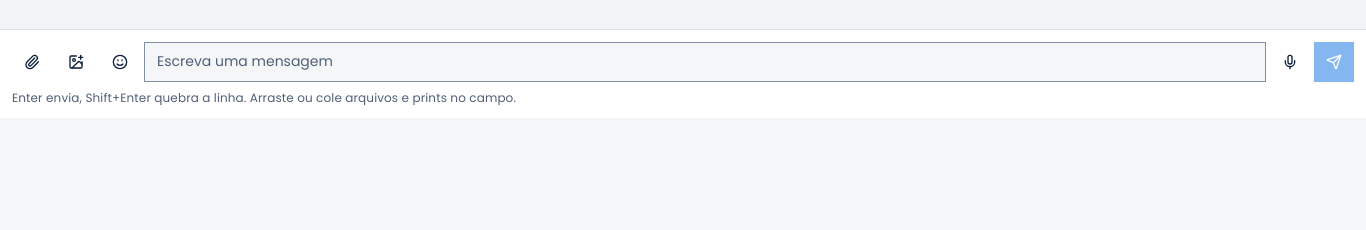
Test: ChatComposer › escrever e enviar mostra a mensagem nova na lista, e limpa o campo
Type "Olá, tudo bem?" into the text box labelled "mensagem" at x=705, y=62, box left=144, top=42, right=1266, bottom=82
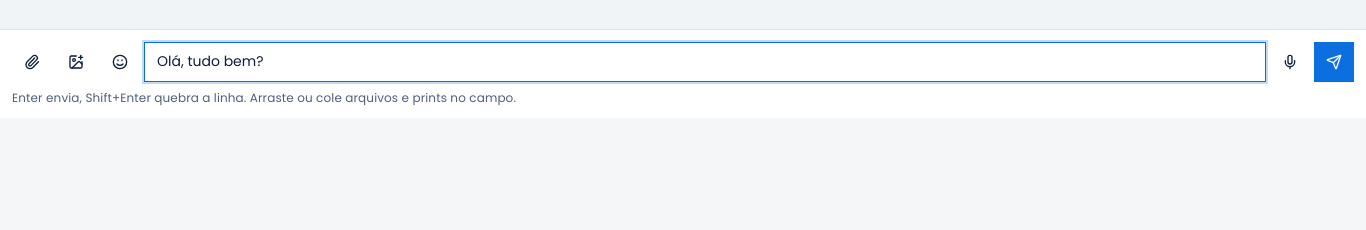
Result: the button named "Enviar" is enabled
Click the button named "Enviar" at x=1334, y=62, box left=1314, top=42, right=1354, bottom=82
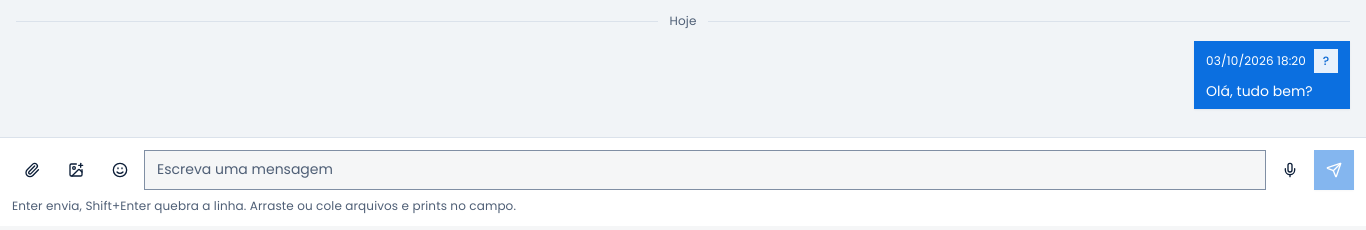
Result: the text "Olá, tudo bem?" is shown at left=1206, top=81, right=1313, bottom=101
Result: the text box with placeholder "Escreva uma mensagem" is empty at left=144, top=150, right=1266, bottom=190
Result: the button named "Enviar" is disabled at left=1314, top=150, right=1354, bottom=190
